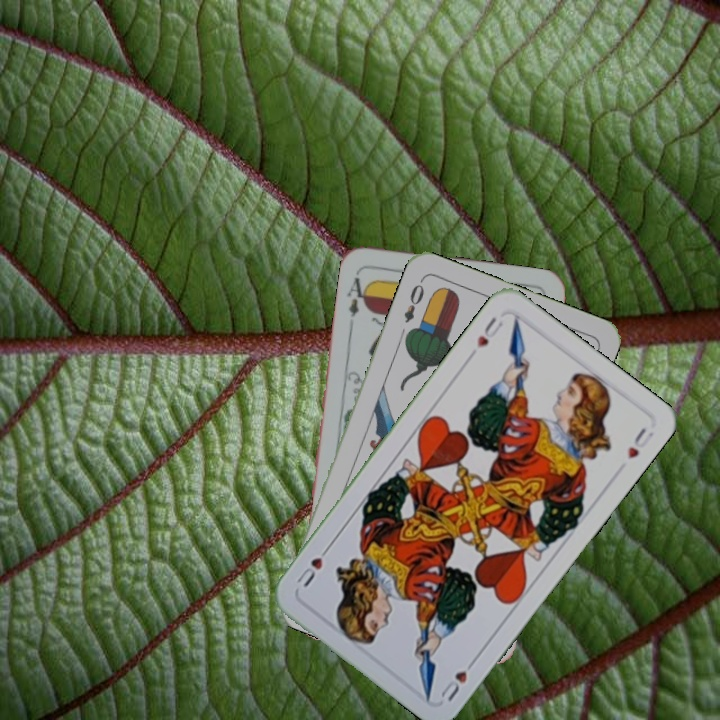EA: (343, 273, 372, 320)
EO: (399, 275, 427, 326)
HU: (436, 654, 480, 704), (465, 313, 506, 360)
